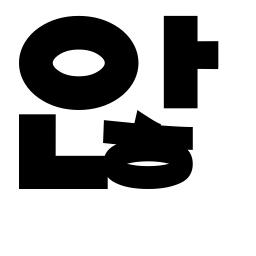Gaji: (153, 29, 211, 82)
